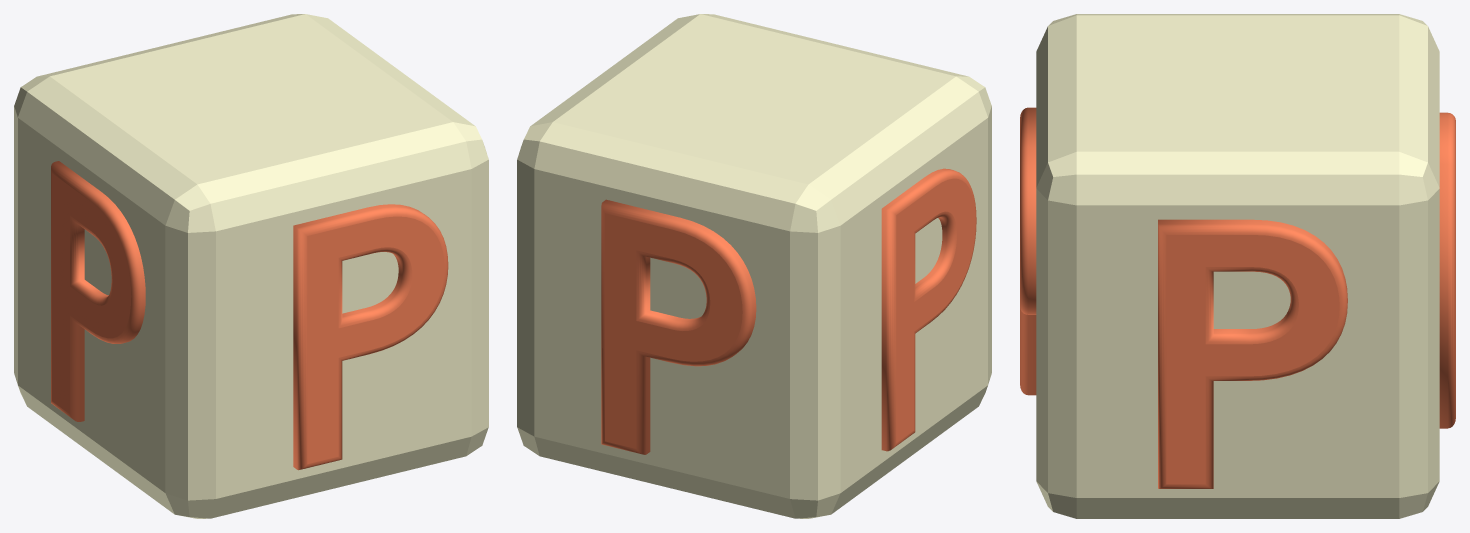
3 views of the same model, side by side, from view 1: azimuth 30°, elevation 25°; view 2: azimuth 150°, elevation 25°; view 3: azimuth 270°, elevation 25° (orthographic). The views are drawn at different scales.
Visible parts, largest first — view 1: P; view 2: P; view 3: P.
Boxes of the visible parts, <box> form: P: <box>14,14,488,518</box>; P: <box>517,14,991,518</box>; P: <box>1020,14,1455,518</box>.
Size of the model in its own units: 216 by 200 by 216.
